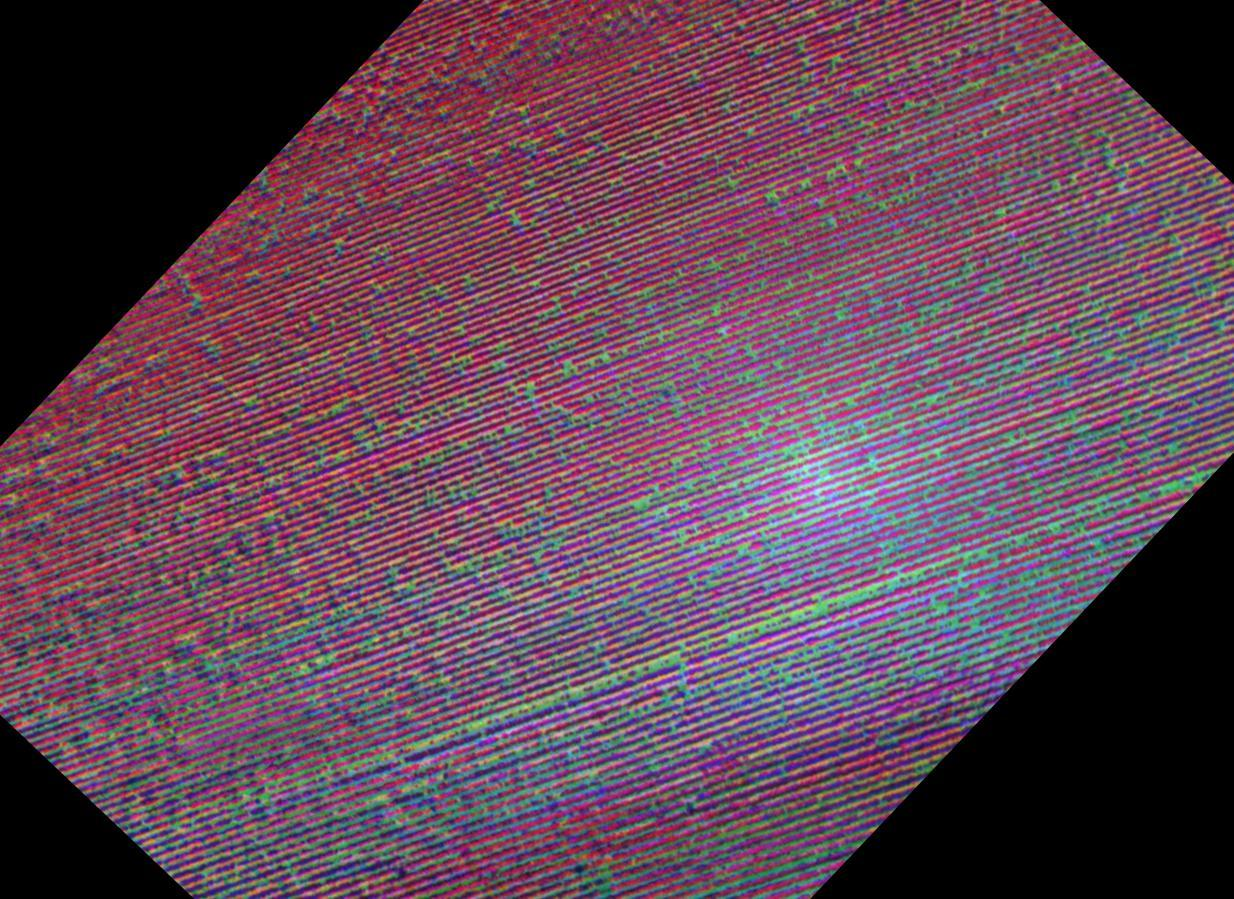dc: (580, 814, 709, 899), (761, 414, 844, 507), (264, 631, 352, 718), (1126, 300, 1201, 383)
